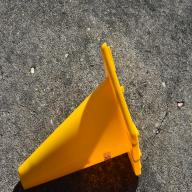cone: (18, 42, 142, 190)
